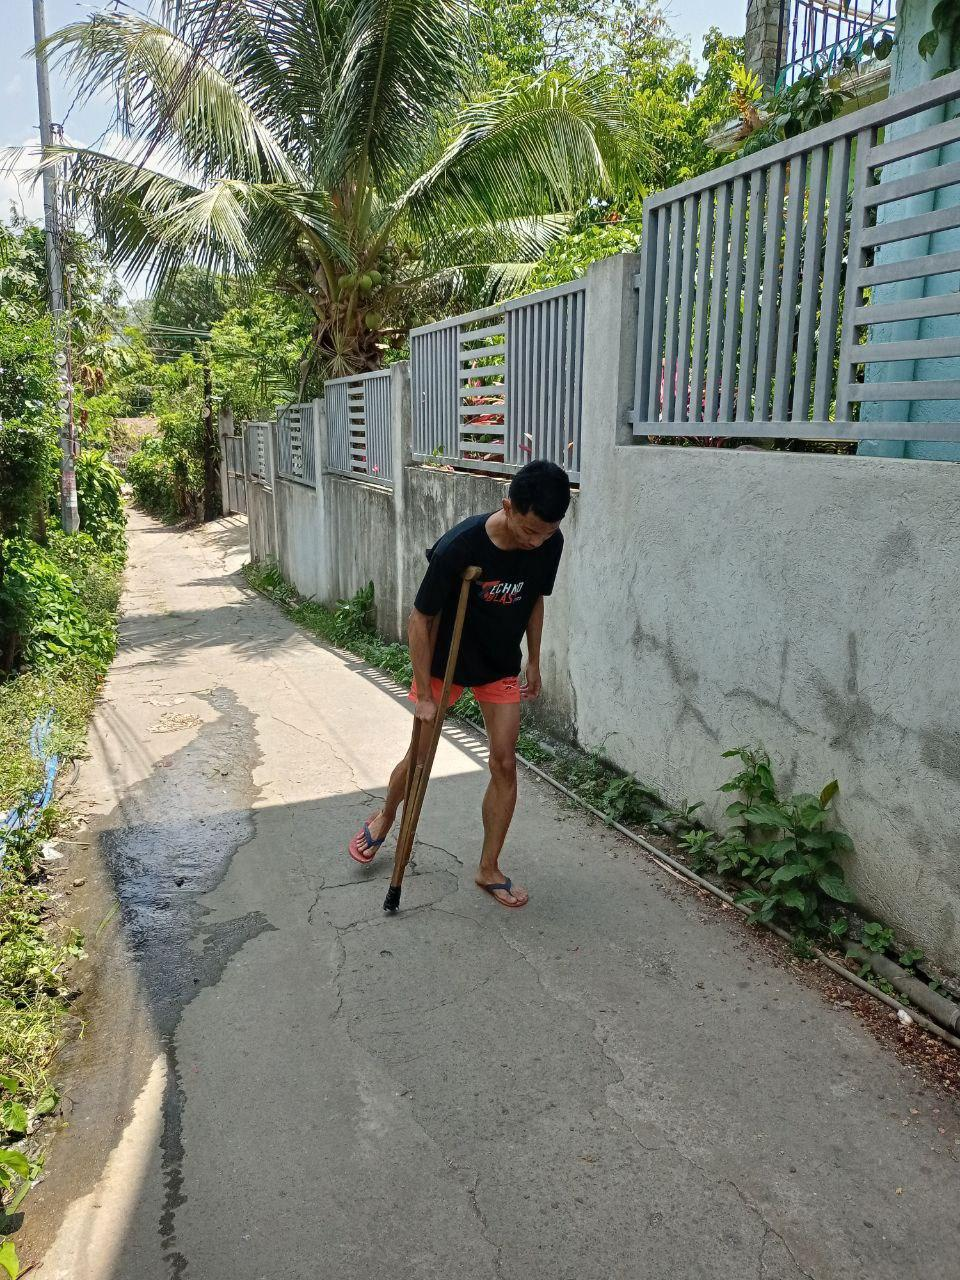crutches: (348, 461, 573, 917)
